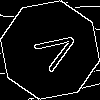V: (25, 25, 82, 78)
